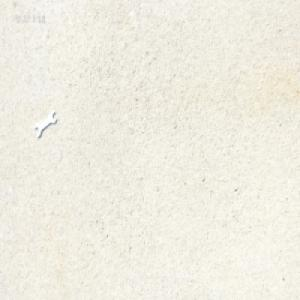Wrench: (33, 107, 56, 139)
